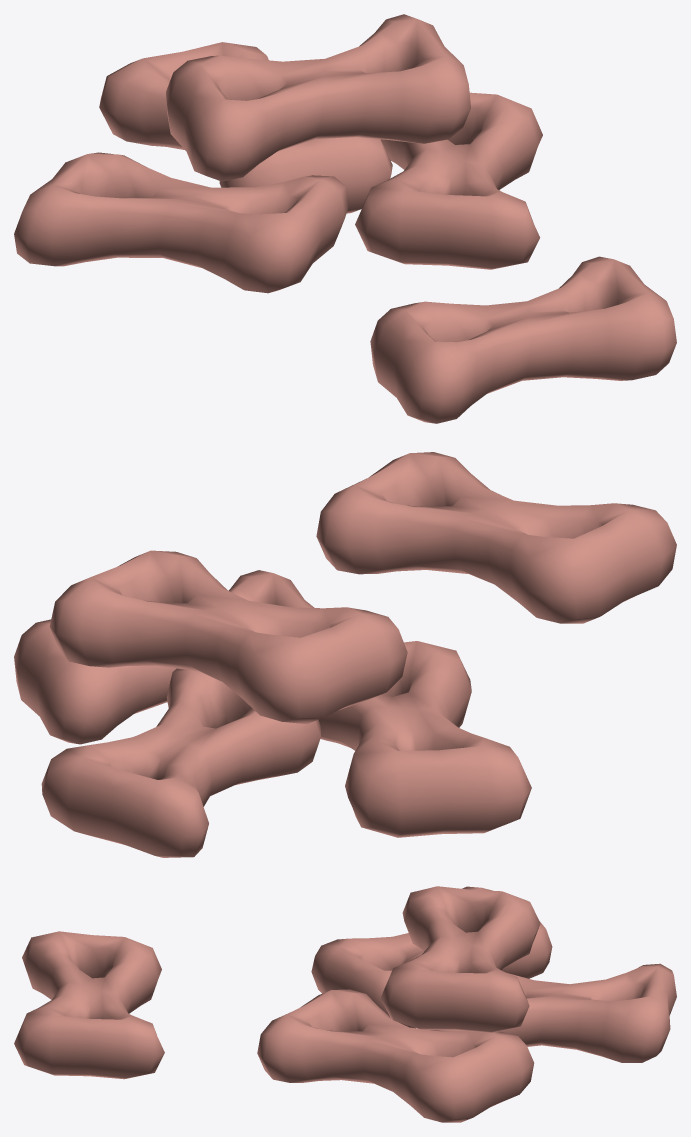
Rendered from props.fbx_item_snaccs.fbx.
The picture shows the model from 3 angles, top to bottom: view 1: azimuth 30°, elevation 25°; view 2: azimuth 150°, elevation 25°; view 3: azimuth 270°, elevation 25°; orthographic projection. The views are drawn at different scales.
Parts seen in each view (by area): view 1: item_snaccs; view 2: item_snaccs; view 3: item_snaccs.
Part boxes in pixels (left/top/right/bottom): item_snaccs: left=14, top=14, right=676, bottom=423; item_snaccs: left=14, top=452, right=676, bottom=857; item_snaccs: left=14, top=886, right=676, bottom=1122.
Size of the model in its own units: 109 by 31.85 by 154.
